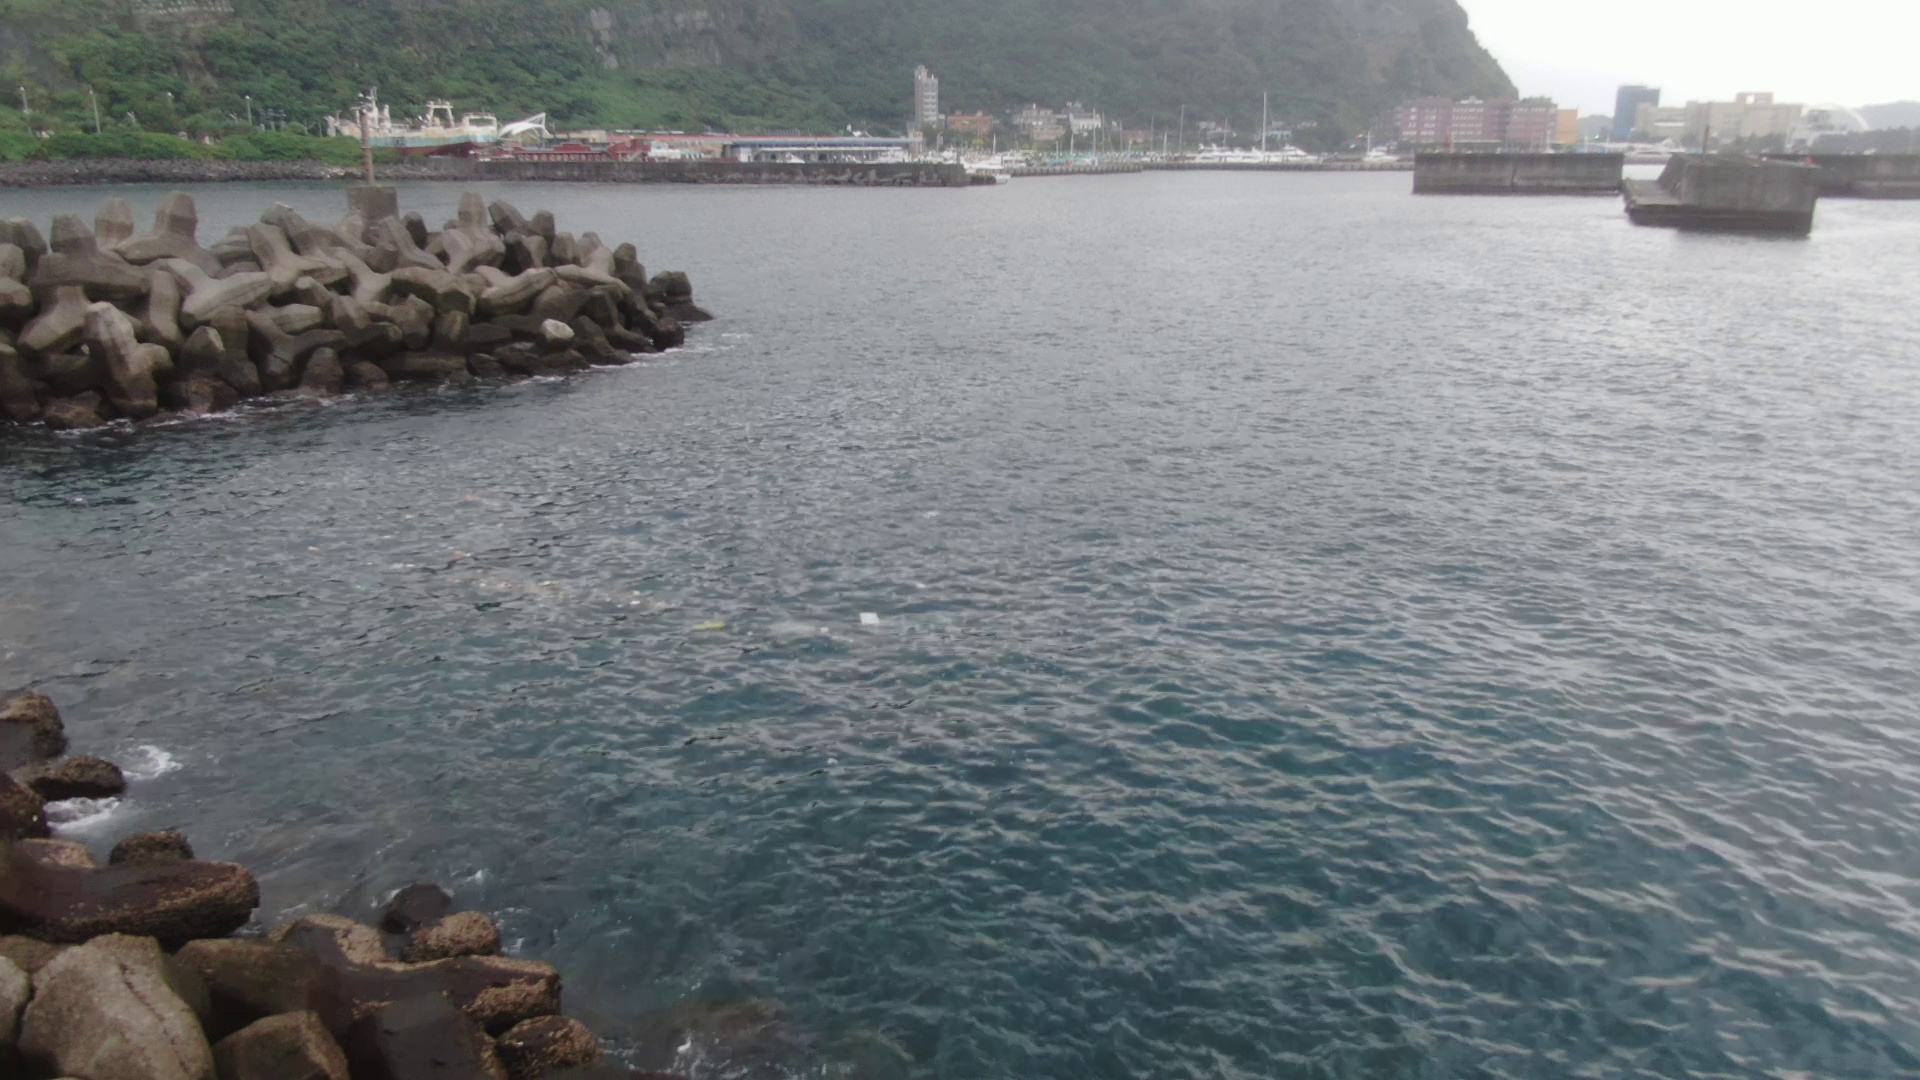garbage: (848, 611, 891, 636)
